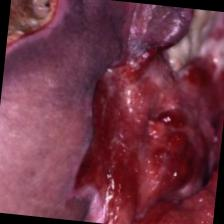pressure-wound: (57, 0, 224, 224), (0, 0, 74, 129)
